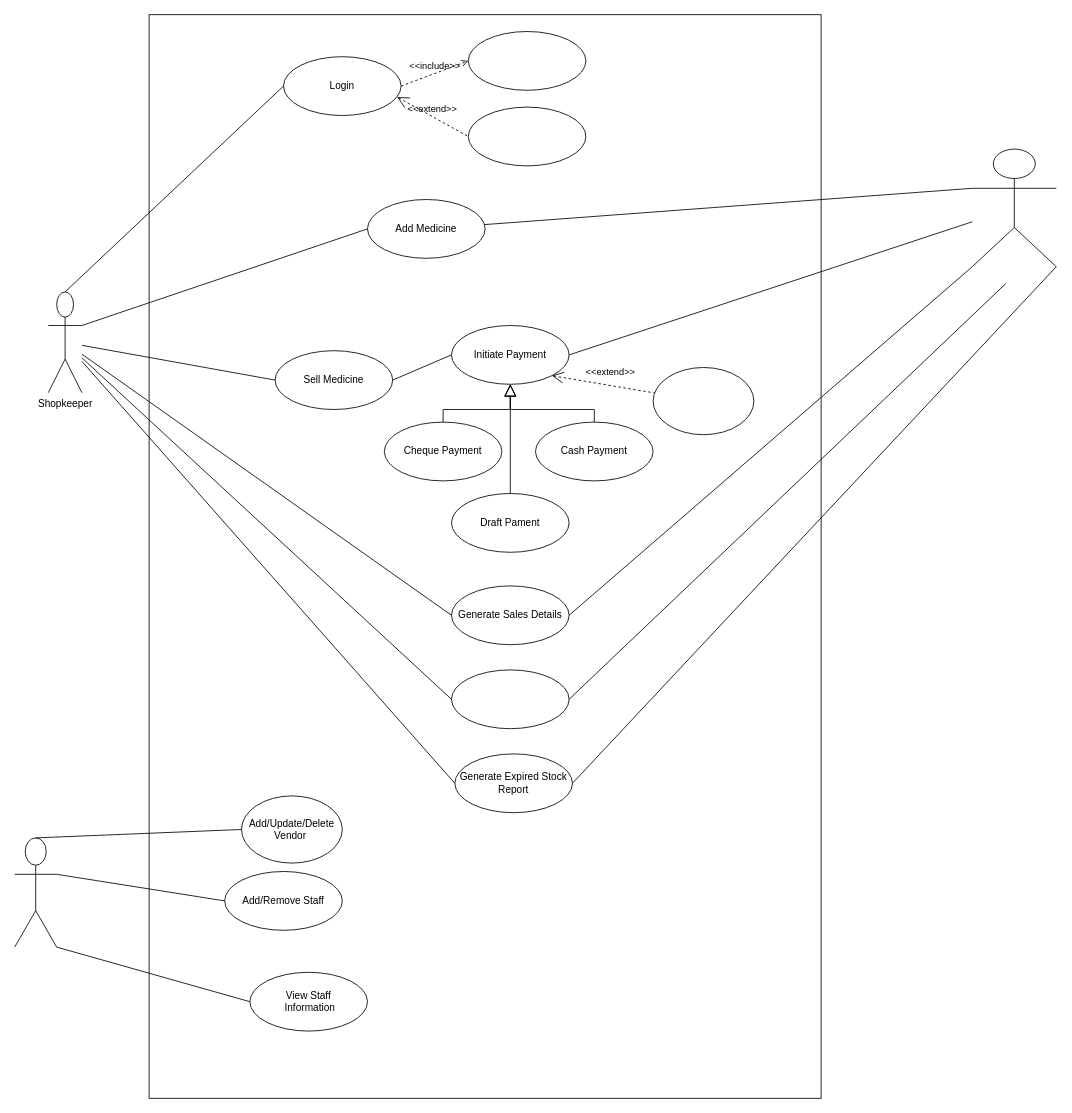
The diagram is 1072 pixels wide and 1113 high, and some of its shapes have lost their labels. Here are the shapes that lost their labels. From the top down, the centre of each, then its label:
At point (526, 60): "Verify Credentials".
At point (526, 136): "Error Login".
At point (1013, 207): "System".
At point (703, 401): "Error during Payment".
At point (510, 699): "Generate Medicine Stock Report".
At point (35, 892): "Owner".
